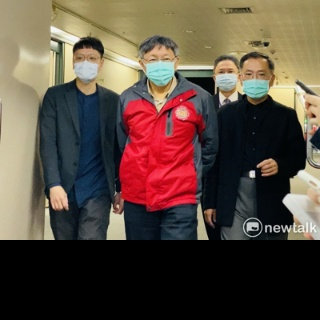with_mask: (143, 52, 176, 87), (240, 68, 272, 100), (72, 51, 100, 84), (214, 65, 240, 92)
